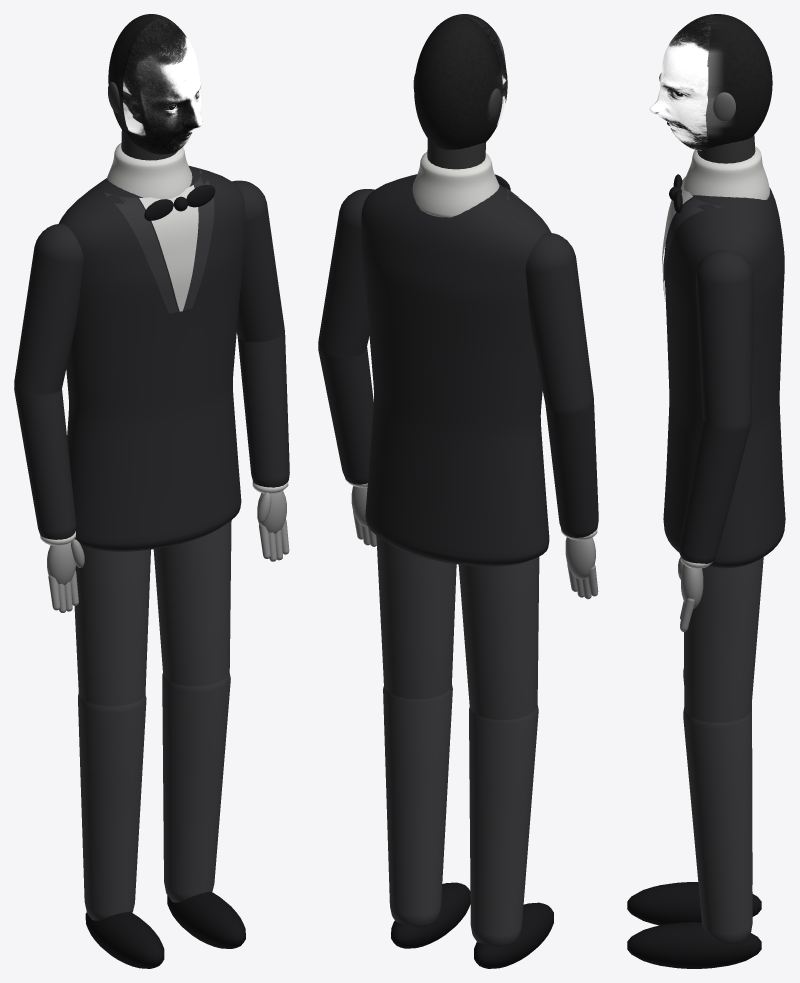
The model's file is paul_klee_full_body.glb.
3 views of the same model, side by side, from view 1: azimuth 30°, elevation 25°; view 2: azimuth 150°, elevation 25°; view 3: azimuth 270°, elevation 25° (orthographic).
Parts seen in each view (by area): view 1: jacket_torso, shin_R, shin_L, thigh_L, thigh_R, head_face_photo, upper_arm_L, forearm_L, forearm_R, upper_arm_R, shirt_front, collar (+9 smaller); view 2: jacket_torso, shin_R, shin_L, thigh_L, thigh_R, head_hair, upper_arm_L, forearm_L, upper_arm_R, forearm_R, collar, shoe_L (+6 smaller); view 3: jacket_torso, shin_R, thigh_R, upper_arm_R, head_hair, forearm_R, head_face_photo, shoe_R, collar, shoe_L, shoulder_R, neck (+4 smaller).
Part boxes in pixels (x1,y1,x2,y2): jacket_torso: (58,166,245,551); shin_R: (162,673,230,902); shin_L: (78,693,146,920); thigh_L: (74,546,150,706); thigh_R: (153,520,231,686); head_face_photo: (123,19,202,154); upper_arm_L: (14,223,83,394); forearm_L: (14,386,76,539); forearm_R: (237,331,289,487); upper_arm_R: (233,180,284,342); shirt_front: (139,185,198,311); collar: (107,143,192,199); jacket_torso: (361,174,550,566); shin_R: (383,685,452,928); shin_L: (469,705,538,946); thigh_L: (458,557,539,720); thigh_R: (376,535,456,699); head_hair: (414,15,502,149); upper_arm_L: (525,232,593,417); forearm_L: (545,398,598,537); upper_arm_R: (318,189,374,357); forearm_R: (318,345,373,484); collar: (412,152,499,217); shoe_L: (474,902,553,968); jacket_torso: (663,187,785,568); shin_R: (683,707,752,944); thigh_R: (684,557,763,723); upper_arm_R: (695,250,753,433); head_hair: (706,14,772,148); forearm_R: (679,419,751,563); head_face_photo: (649,14,711,150); shoe_R: (627,922,761,968); collar: (683,146,769,199); shoe_L: (627,882,761,925); shoulder_R: (696,250,752,285); neck: (697,135,755,163).
Size of the model in its own units: 0.5339 by 1.77 by 0.2736.
Materials: 12 (1 with a texture image).
